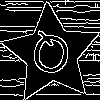Q: (26, 28, 75, 85)
